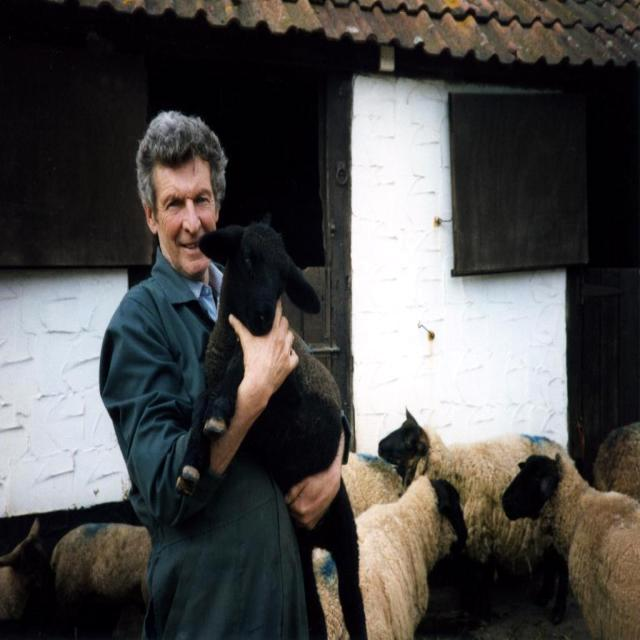sheep: (192, 225, 362, 631)
